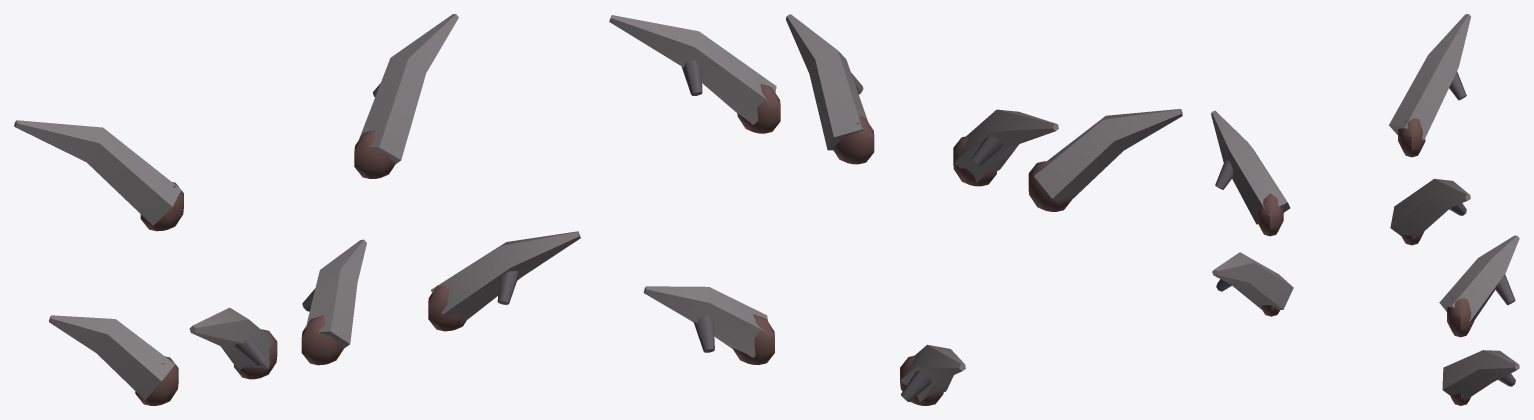
File: implants_fat_barbs.obj
3 views of the same model, side by side, from view 1: azimuth 30°, elevation 25°; view 2: azimuth 150°, elevation 25°; view 3: azimuth 270°, elevation 25° (orthographic). The views are drawn at different scales.
Visible parts, largest first — view 1: implants_fat_barbs; view 2: implants_fat_barbs; view 3: implants_fat_barbs.
Boxes of the visible parts, x1,y1,x2,y2 form: implants_fat_barbs: [14, 14, 580, 405]; implants_fat_barbs: [609, 14, 1182, 405]; implants_fat_barbs: [1211, 14, 1519, 405].
Bounding box in the file's own units: 0.7825 × 0.5314 × 0.5589.
